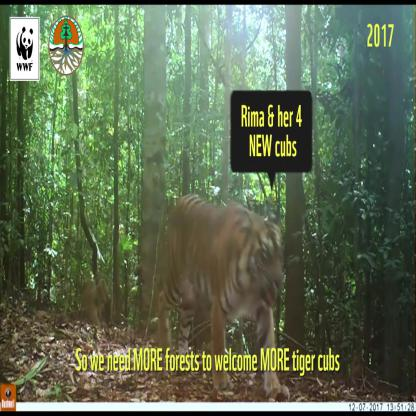Tiger: (148, 180, 292, 336)
